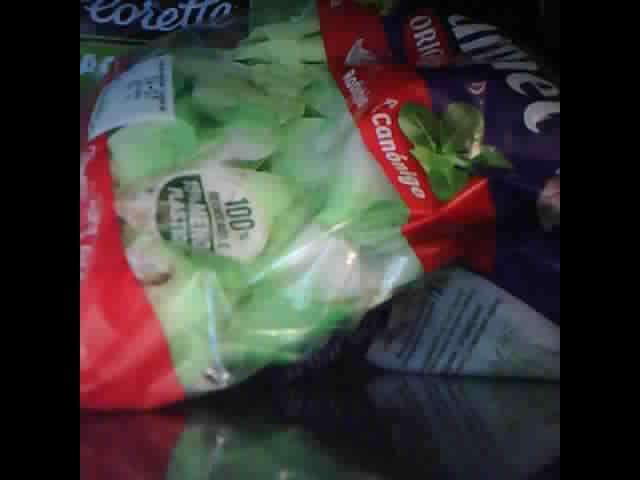florette: (81, 5, 559, 417), (331, 247, 559, 382), (82, 2, 299, 122)
